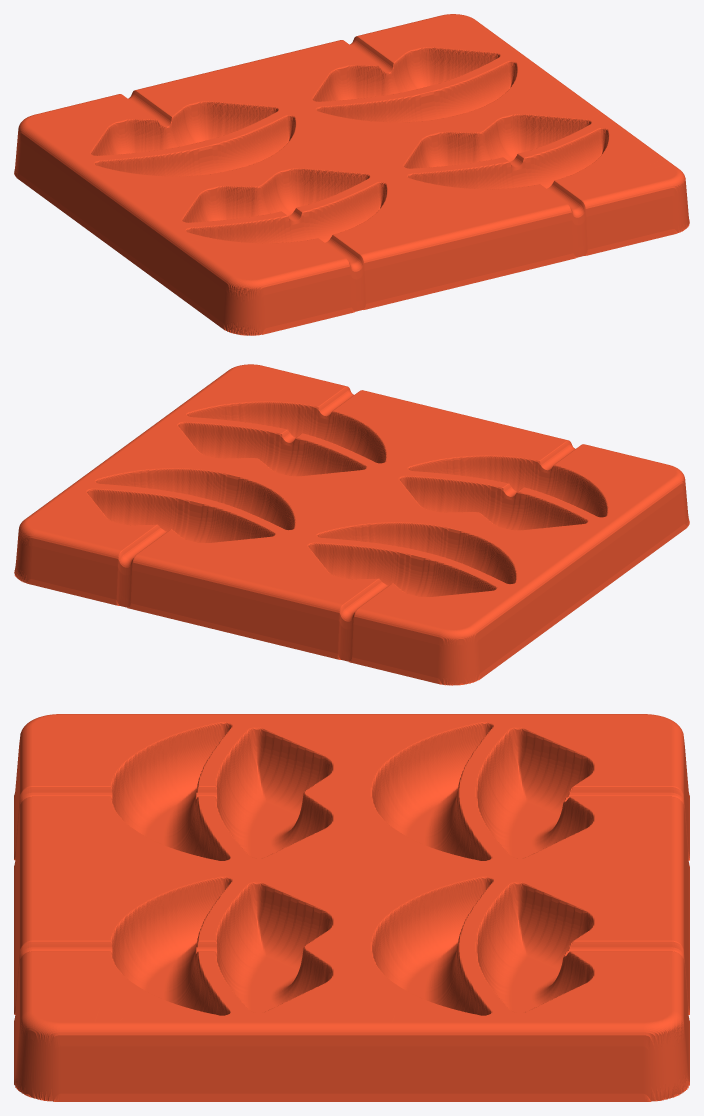
Rendered from mold.glb.
3 views of the same model, one above another, from view 1: azimuth 30°, elevation 25°; view 2: azimuth 150°, elevation 25°; view 3: azimuth 270°, elevation 25° (orthographic). The views are drawn at different scales.
Visible parts, largest first — view 1: geometry_0; view 2: geometry_0; view 3: geometry_0.
Part boxes in pixels (<box>): geometry_0: <box>14,14,689,335</box>; geometry_0: <box>14,364,689,685</box>; geometry_0: <box>14,714,689,1101</box>.
Size of the model in its own units: 0.1497 by 0.0155 by 0.1324.
